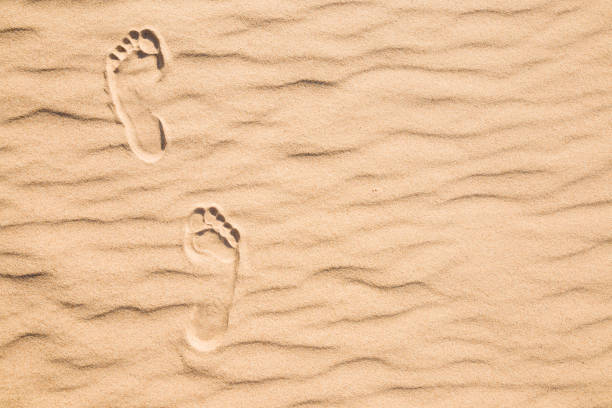human_footprint: (104, 27, 170, 162), (183, 205, 240, 351)
